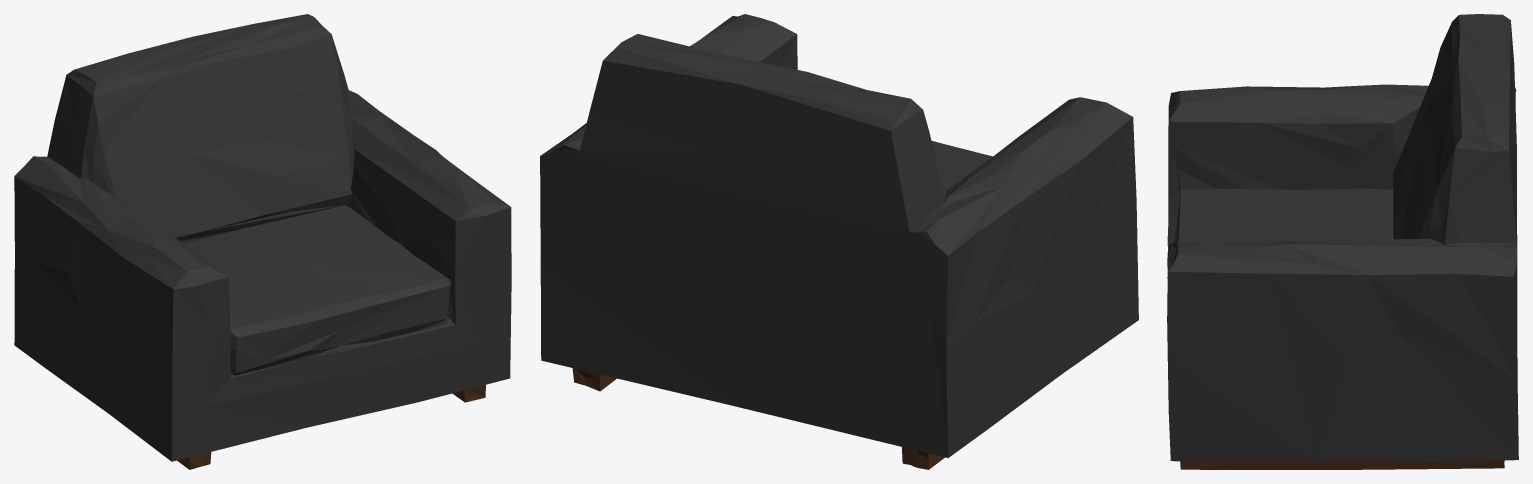
File: Sofa_Single.fbx
3 views of the same model, side by side, from view 1: azimuth 30°, elevation 25°; view 2: azimuth 150°, elevation 25°; view 3: azimuth 270°, elevation 25° (orthographic). The views are drawn at different scales.
Parts seen in each view (by area): view 1: Sofa; view 2: Sofa; view 3: Sofa.
Boxes of the visible parts, left/top/right/bottom form: Sofa: left=14, top=14, right=511, bottom=469; Sofa: left=540, top=14, right=1138, bottom=469; Sofa: left=1167, top=14, right=1518, bottom=469.
Size of the model in its own units: 187 by 151 by 151.
